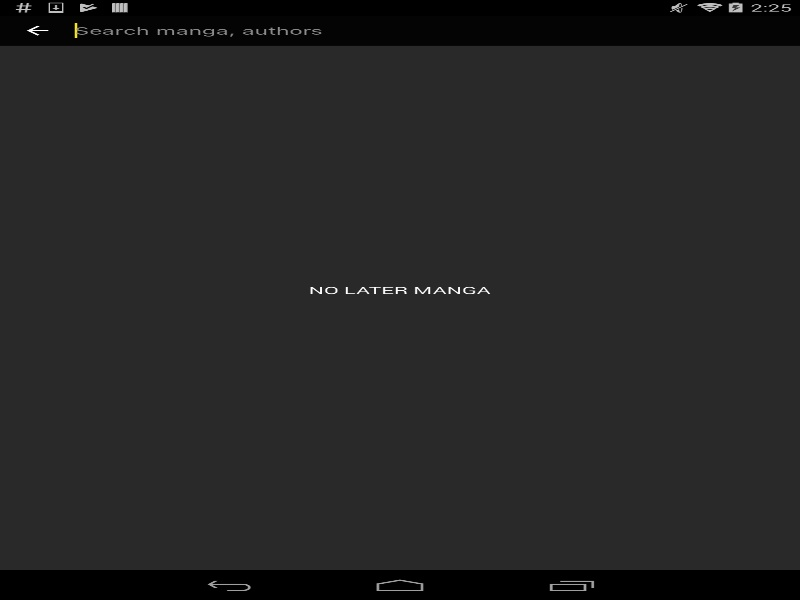Button: (725, 15, 800, 45), (0, 15, 74, 45)
Input: (74, 15, 778, 45)
